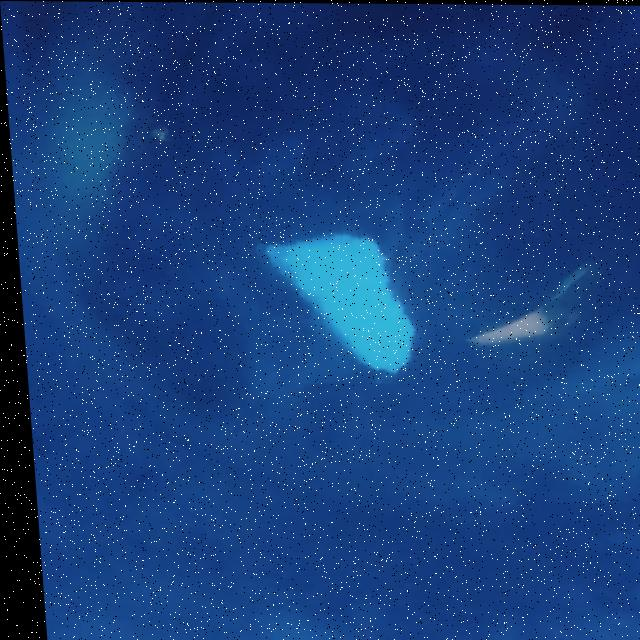litter: (240, 198, 435, 382)
